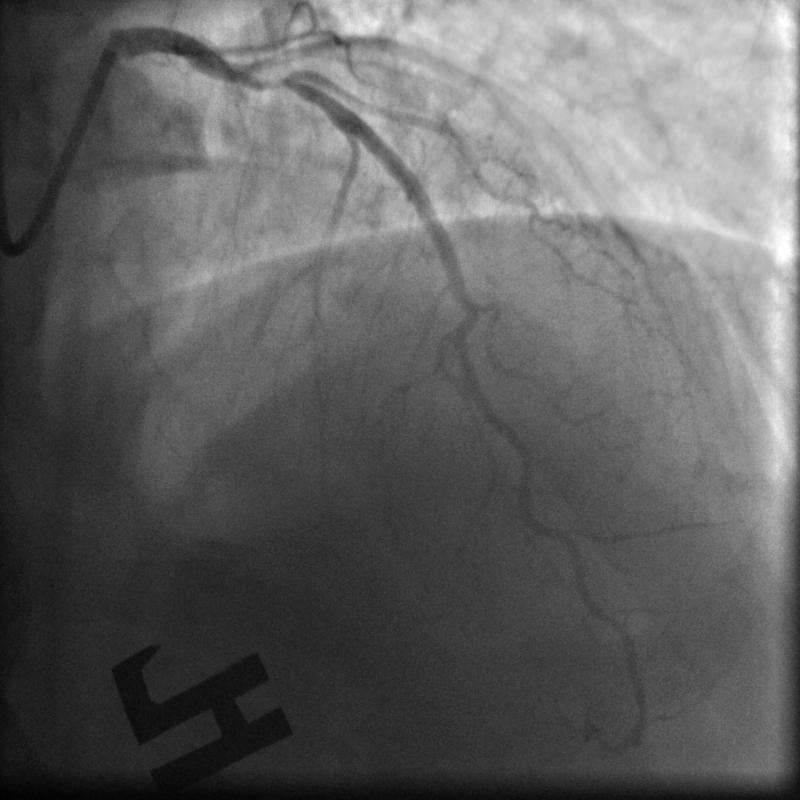Stenosis: (235, 63, 302, 97)
